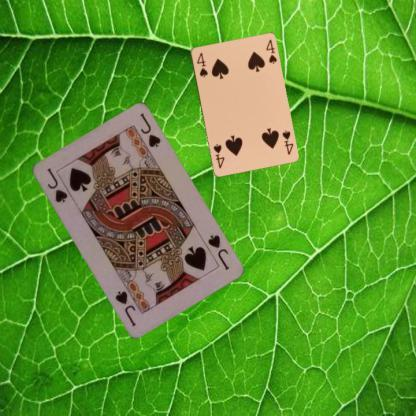4s: (194, 50, 209, 78), (279, 128, 294, 156)
Js: (204, 232, 230, 272), (44, 165, 69, 204)
